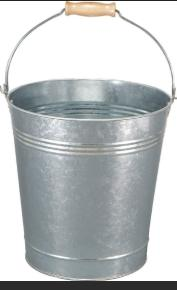SEAU: (3, 1, 174, 290)
